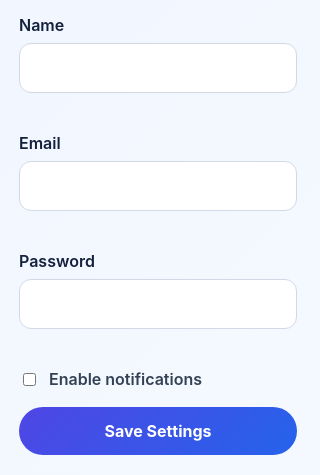
Test: SettingsForm › validates on blur before submit
The width and height of the screenshot is (320, 475).
Click the field labelled "Name". click: (158, 68)
box: [19,43,297,93]
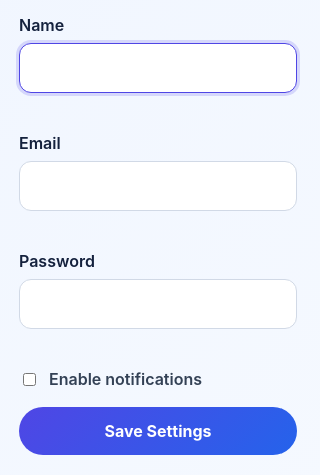
Press Tab
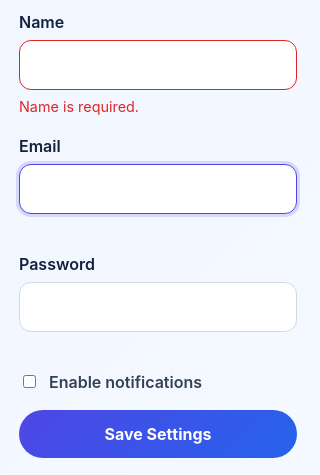
Expected: the text "Name is required." is shown, [19,98,139,115]
